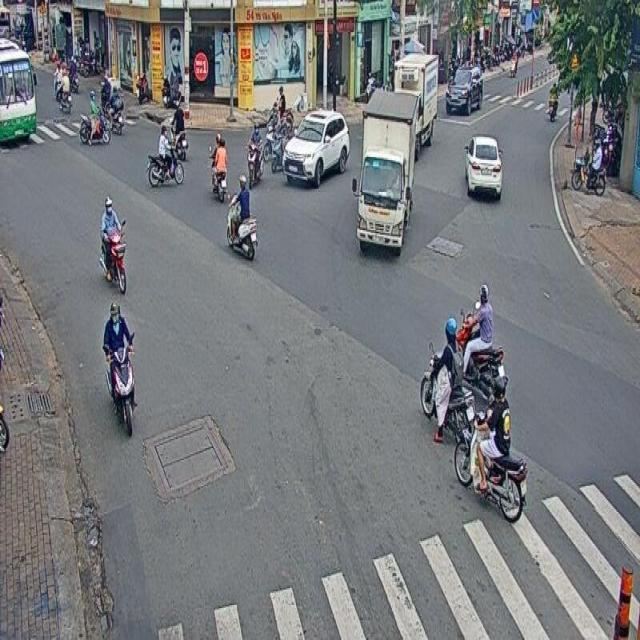car: (282, 110, 349, 186), (466, 134, 502, 195)
motorcycle: (453, 376, 527, 523), (420, 317, 474, 437), (456, 284, 505, 388), (102, 300, 134, 438), (100, 195, 126, 296), (226, 174, 256, 260), (146, 124, 184, 188), (78, 88, 110, 145), (210, 131, 227, 203), (246, 122, 264, 189)
truck: (355, 88, 417, 250)
